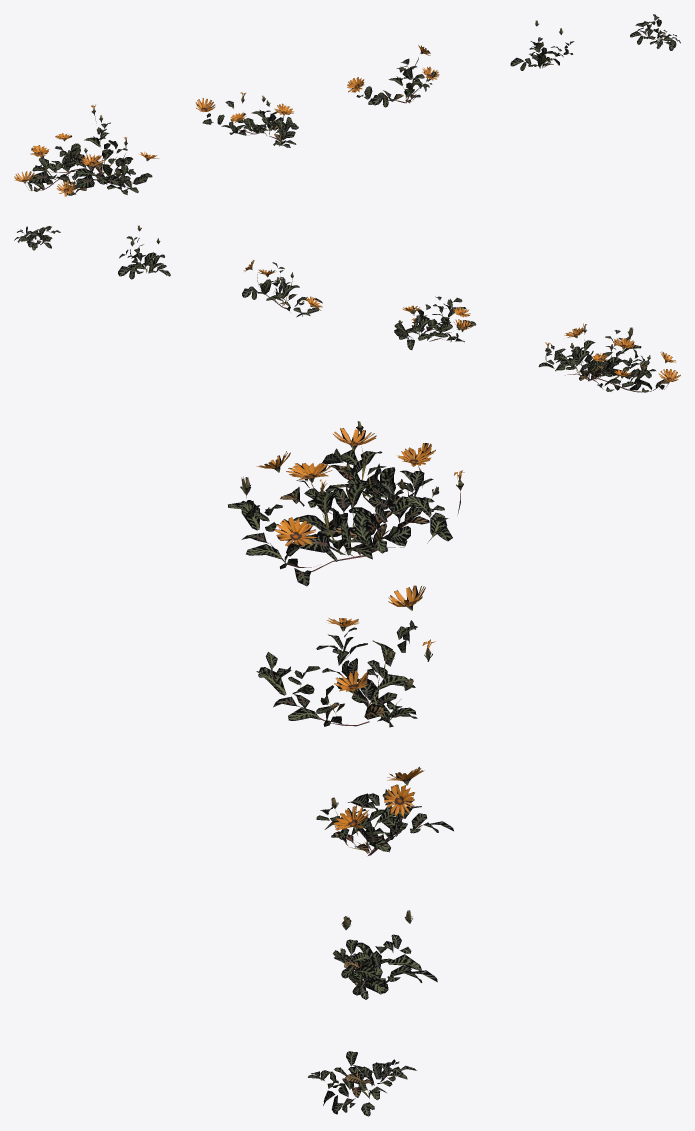
The model's file is flower_ursinia.glb.
The picture shows the model from 3 angles, top to bottom: view 1: azimuth 30°, elevation 25°; view 2: azimuth 150°, elevation 25°; view 3: azimuth 270°, elevation 25°; orthographic projection. The views are drawn at different scales.
Visible parts, largest first — view 1: flower_ursinia_a_LOD0, flower_ursinia_b_LOD0, flower_ursinia_c_LOD0, flower_ursinia_d_LOD0, flower_ursinia_e_LOD0; view 2: flower_ursinia_a_LOD0, flower_ursinia_b_LOD0, flower_ursinia_c_LOD0, flower_ursinia_d_LOD0, flower_ursinia_e_LOD0; view 3: flower_ursinia_a_LOD0, flower_ursinia_b_LOD0, flower_ursinia_c_LOD0, flower_ursinia_d_LOD0, flower_ursinia_e_LOD0.
Part boxes in pixels (left/top/right/bottom): flower_ursinia_a_LOD0: left=14, top=104, right=159, bottom=196; flower_ursinia_b_LOD0: left=195, top=92, right=298, bottom=147; flower_ursinia_c_LOD0: left=347, top=45, right=439, bottom=107; flower_ursinia_d_LOD0: left=510, top=20, right=574, bottom=70; flower_ursinia_e_LOD0: left=630, top=14, right=680, bottom=50; flower_ursinia_a_LOD0: left=538, top=323, right=680, bottom=392; flower_ursinia_b_LOD0: left=394, top=296, right=476, bottom=349; flower_ursinia_c_LOD0: left=242, top=260, right=322, bottom=317; flower_ursinia_d_LOD0: left=118, top=225, right=170, bottom=279; flower_ursinia_e_LOD0: left=14, top=226, right=60, bottom=250; flower_ursinia_a_LOD0: left=228, top=421, right=464, bottom=586; flower_ursinia_b_LOD0: left=256, top=585, right=435, bottom=727; flower_ursinia_c_LOD0: left=316, top=766, right=453, bottom=855; flower_ursinia_d_LOD0: left=333, top=910, right=437, bottom=999; flower_ursinia_e_LOD0: left=308, top=1051, right=416, bottom=1116.
Size of the model in its own units: 2.19 by 0.1717 by 0.3433.
Materials: 1 (1 with a texture image).
